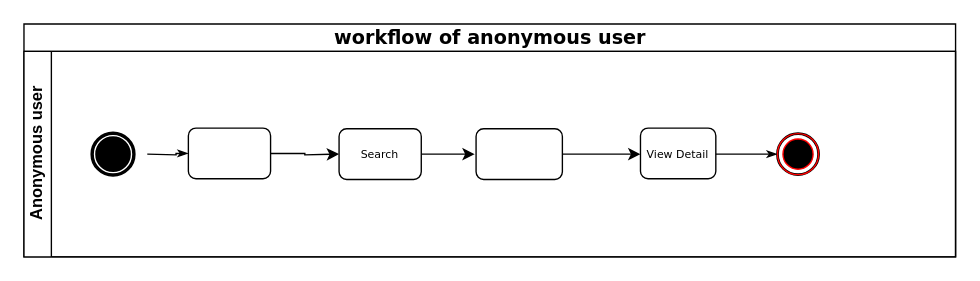
This 980x281 diagram has some shape labels left out. Each missing label, with the centre of its shape:
Main Page: the point at 229,153
View Results: the point at 518,153
